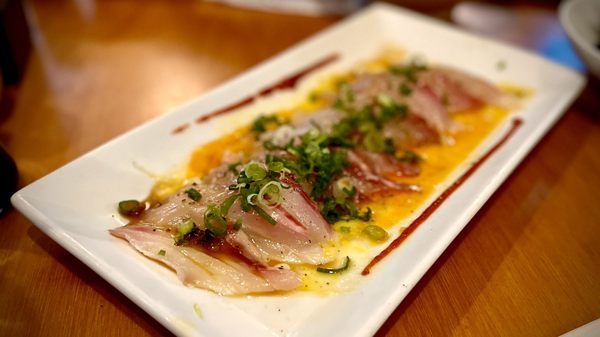curry: (2, 2, 597, 337)
sandwich: (106, 50, 524, 293)
